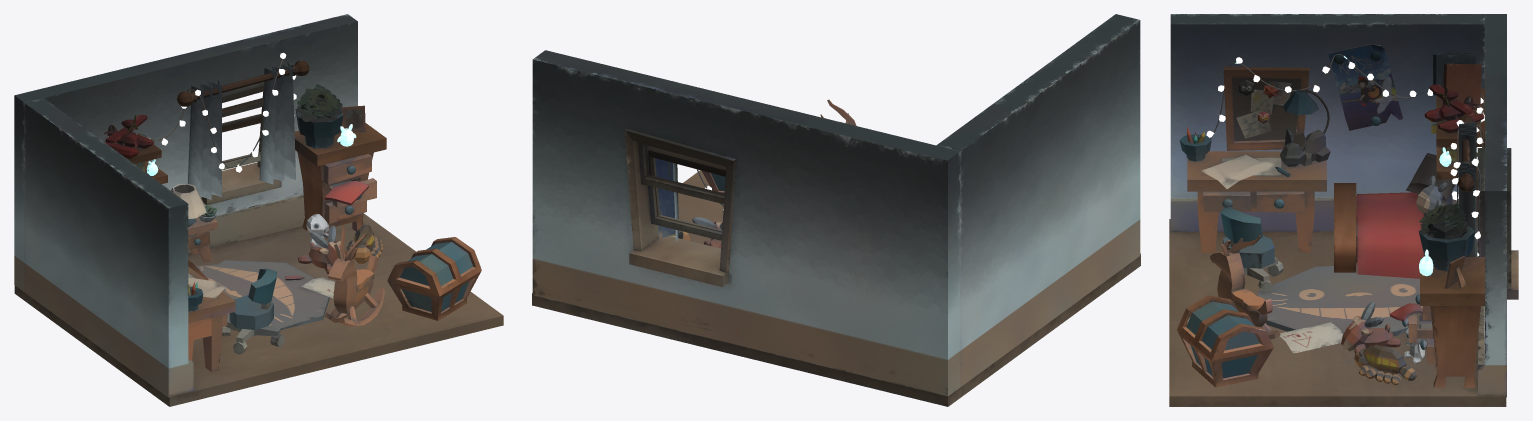
File: ghibli-room.fbx
3 renders of one model, left to right at view 1: azimuth 30°, elevation 25°; view 2: azimuth 150°, elevation 25°; view 3: azimuth 270°, elevation 25°, orthographic. The views are drawn at different scales.
Visible parts, largest first — view 1: walls_wallsmaterial_0, floor_wallsmaterial_0, carpet_roommaterial_0, curtain_R_roommaterial_0, top_ark_roommaterial_0, curtain_L_roommaterial_0, bottom_ark_roommaterial_0, skeleton_roommaterial_0, top_chest_roommaterial_0, parapet_window_wallsmaterial_0, body_yakul_roommaterial_0, skeleton_desk_roommaterial_0 (+15 smaller); view 2: walls_wallsmaterial_0, floor_wallsmaterial_0, parapet_window_wallsmaterial_0, bottom_frame_window_wallsmaterial_0, top_frame_window_wallsmaterial_0, curtain_R_roommaterial_0; view 3: walls_wallsmaterial_0, floor_wallsmaterial_0, carpet_roommaterial_0, duvet_bedmaterial_0, board_roommaterial_0, poster1_roommaterial_0, top_ark_roommaterial_0, top_desk_roommaterial_0, skeleton_roommaterial_0, top_chest_roommaterial_0, bottom_ark_roommaterial_0, bed_feet_bedmaterial_0 (+37 smaller).
Boxes of the visible parts, x1,y1,x2,y2 form: walls_wallsmaterial_0: [14, 14, 357, 397]; floor_wallsmaterial_0: [14, 213, 503, 406]; carpet_roommaterial_0: [196, 260, 329, 330]; curtain_R_roommaterial_0: [259, 62, 295, 184]; top_ark_roommaterial_0: [387, 237, 481, 296]; curtain_L_roommaterial_0: [187, 79, 221, 199]; bottom_ark_roommaterial_0: [388, 271, 481, 320]; skeleton_roommaterial_0: [297, 152, 373, 239]; top_chest_roommaterial_0: [294, 121, 386, 166]; parapet_window_wallsmaterial_0: [201, 162, 281, 205]; body_yakul_roommaterial_0: [328, 257, 373, 313]; skeleton_desk_roommaterial_0: [188, 315, 222, 372]; walls_wallsmaterial_0: [532, 14, 1140, 396]; floor_wallsmaterial_0: [532, 170, 1140, 406]; parapet_window_wallsmaterial_0: [629, 233, 728, 286]; bottom_frame_window_wallsmaterial_0: [648, 146, 726, 240]; top_frame_window_wallsmaterial_0: [638, 142, 724, 203]; curtain_R_roommaterial_0: [655, 158, 678, 241]; walls_wallsmaterial_0: [1170, 14, 1511, 397]; floor_wallsmaterial_0: [1169, 219, 1506, 406]; carpet_roommaterial_0: [1258, 264, 1422, 336]; duvet_bedmaterial_0: [1356, 192, 1451, 278]; board_roommaterial_0: [1223, 67, 1309, 150]; poster1_roommaterial_0: [1328, 44, 1403, 130]; top_ark_roommaterial_0: [1177, 295, 1273, 360]; top_desk_roommaterial_0: [1187, 151, 1326, 191]; skeleton_roommaterial_0: [1430, 306, 1480, 387]; top_chest_roommaterial_0: [1420, 257, 1484, 305]; bottom_ark_roommaterial_0: [1177, 330, 1272, 387]; bed_feet_bedmaterial_0: [1334, 183, 1356, 272].
Bounding box in the file's own units: 4686 × 2653 × 3897.
